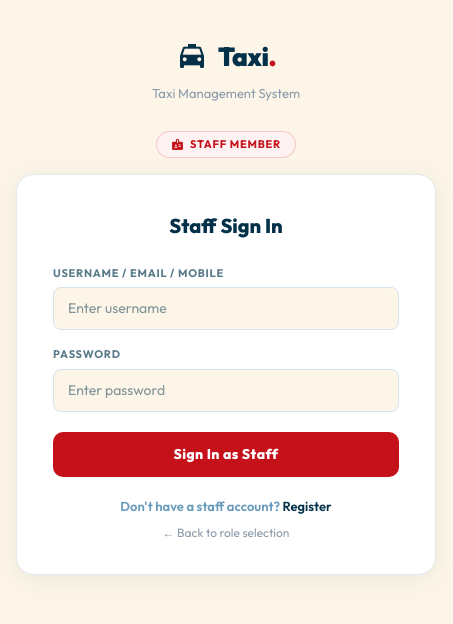
it: displays error message on failed staff login
In the field with placeholder "Enter username": (226, 309) [53,287,399,330], type "staff@test.com"
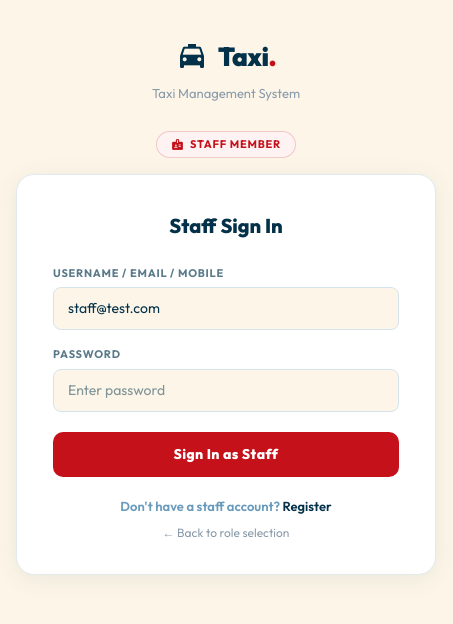
In the password field with placeholder "Enter password": (226, 390) [53,369,399,412], type "wrongpass"
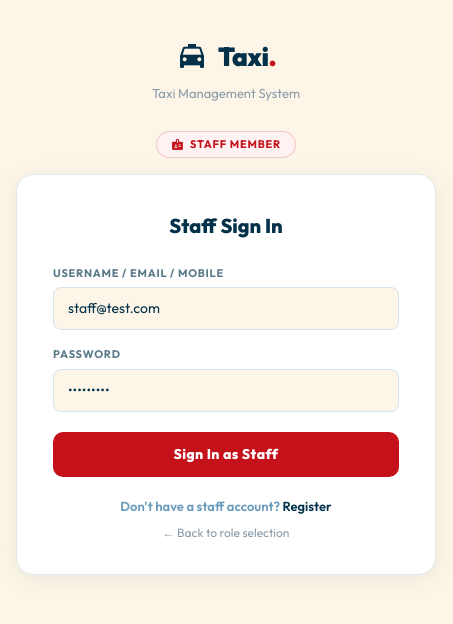
Click the button "Sign In as Staff": (226, 454) [53,432,399,477]
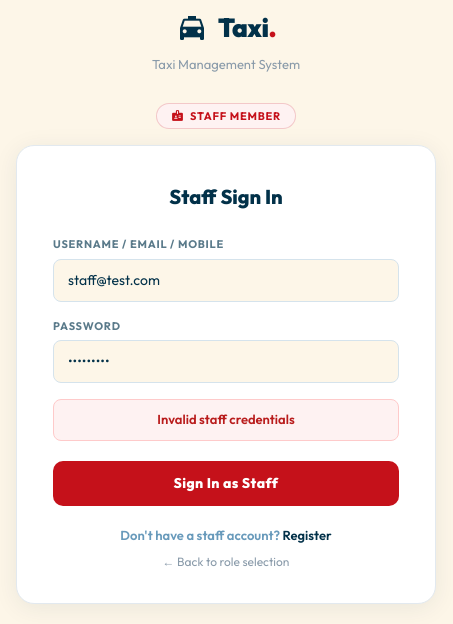
Expected: the text "Invalid staff credentials" is shown, [53,399,399,440]
